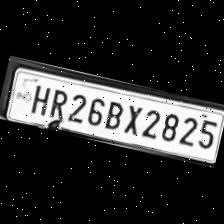2: (63, 88, 88, 125), (137, 104, 162, 141), (176, 112, 200, 148)
5: (193, 114, 219, 150)
6: (82, 92, 108, 128)
8: (156, 108, 181, 144)
B: (100, 96, 127, 132)
H: (25, 80, 52, 118)
R: (44, 85, 69, 122)
X: (120, 100, 144, 136)
